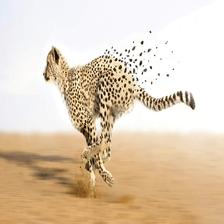Cheetah: (42, 44, 196, 197)
